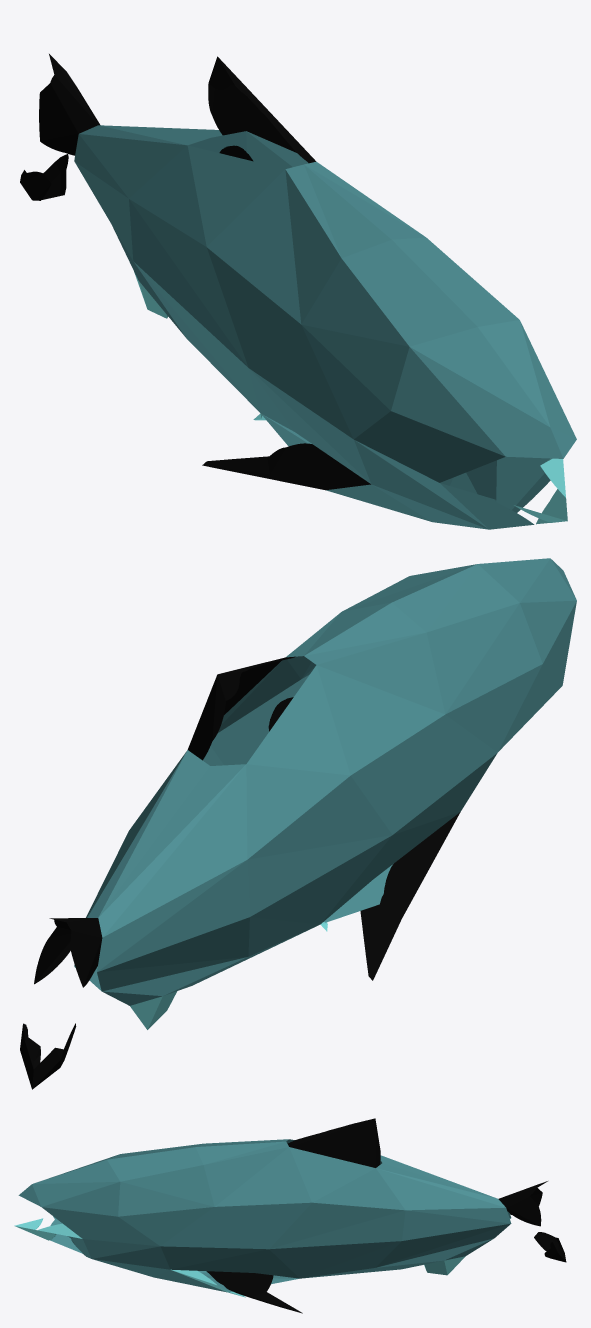
File: fish.fbx
3 views of the same model, one above another, from view 1: azimuth 30°, elevation 25°; view 2: azimuth 150°, elevation 25°; view 3: azimuth 270°, elevation 25° (orthographic). The views are drawn at different scales.
Visible parts, largest first — view 1: Fish; view 2: Fish; view 3: Fish.
Boxes of the visible parts, left/top/right/bottom form: Fish: left=20, top=54, right=576, bottom=529; Fish: left=20, top=558, right=576, bottom=1089; Fish: left=14, top=1118, right=566, bottom=1313.
Size of the model in its own units: 126 by 238 by 698.
1 material, 1 textured.
